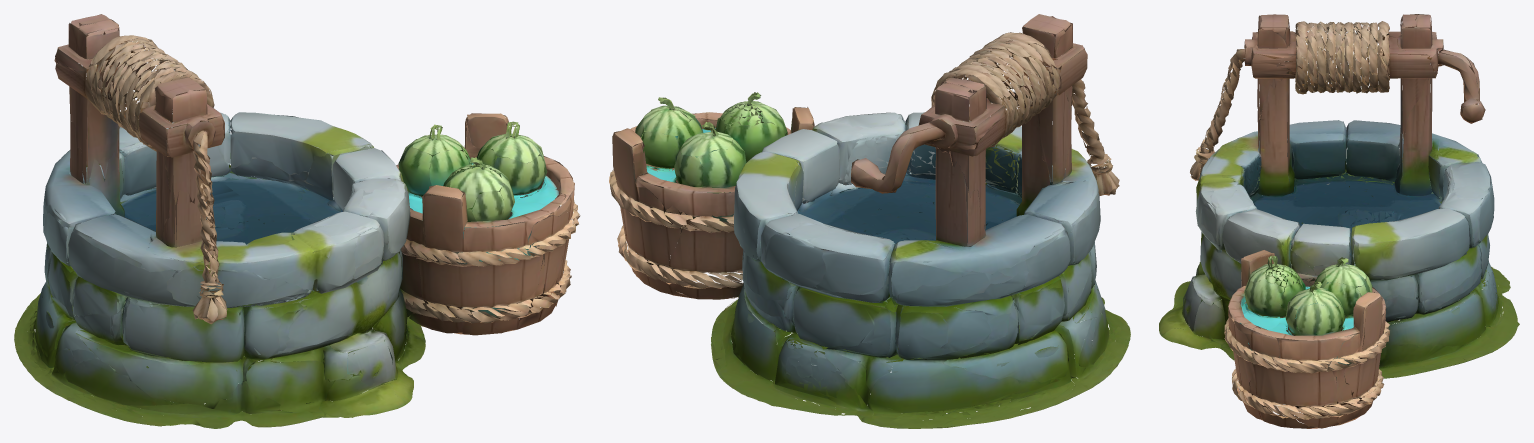
The model's file is well.glb.
3 renders of one model, left to right at view 1: azimuth 30°, elevation 25°; view 2: azimuth 150°, elevation 25°; view 3: azimuth 270°, elevation 25°, orthographic. The views are drawn at different scales.
Parts seen in each view (by area): view 1: node_0; view 2: node_0; view 3: node_0.
Part boxes in pixels (x1,y1,x2,y2): node_0: (14,14,580,428); node_0: (609,14,1130,428); node_0: (1159,14,1519,428).
Bounding box in the file's own units: 1.03 × 0.6098 × 0.7809.
1 material, 1 textured.
